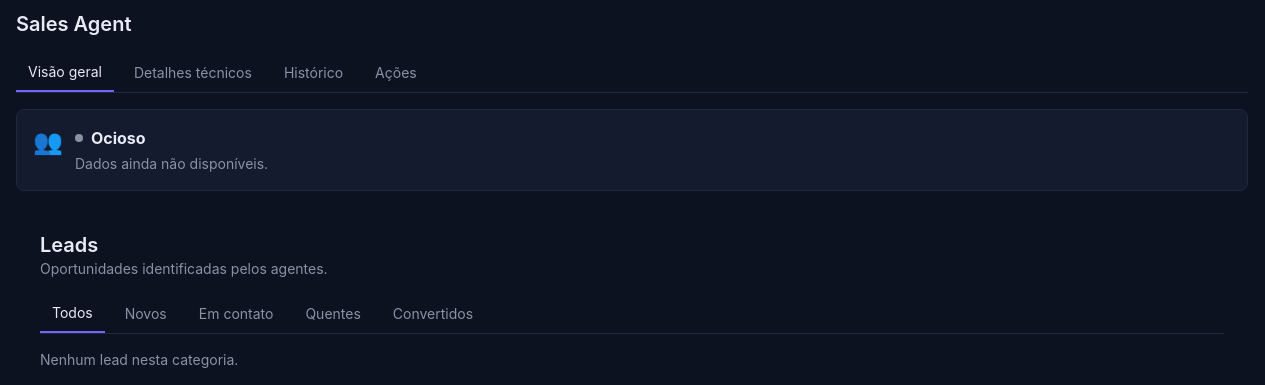
AgenteDetailPage › mostra as 4 abas e troca de conteúdo ao clicar
The width and height of the screenshot is (1265, 385).
Expected: the tab "Visão geral" is shown, [16,54,114,92]
Expected: the tab "Detalhes técnicos" is shown, [122,54,264,92]
Click the tab "Histórico": [314, 73] box [272,54,355,92]
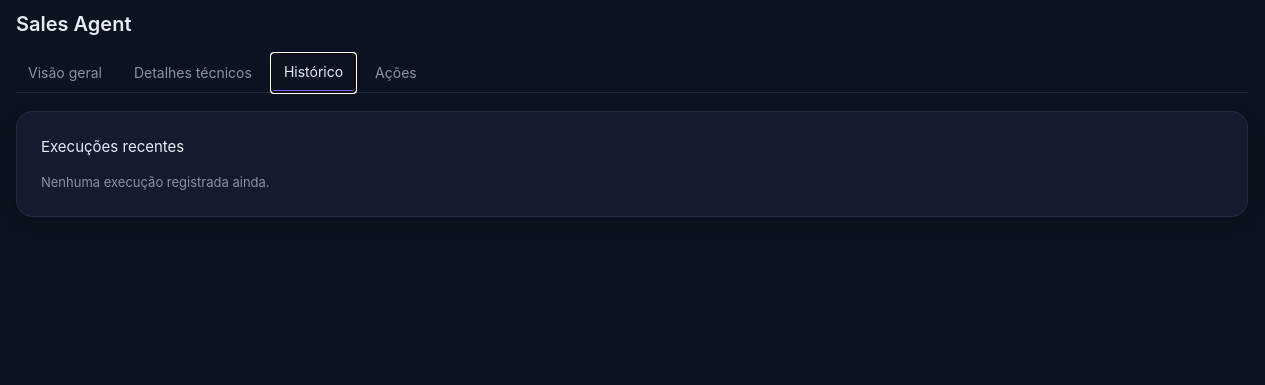
Expected: the heading "Execuções recentes" is shown, [41,136,184,158]
Click the tab "Ações": [396, 73] box [363,54,429,92]
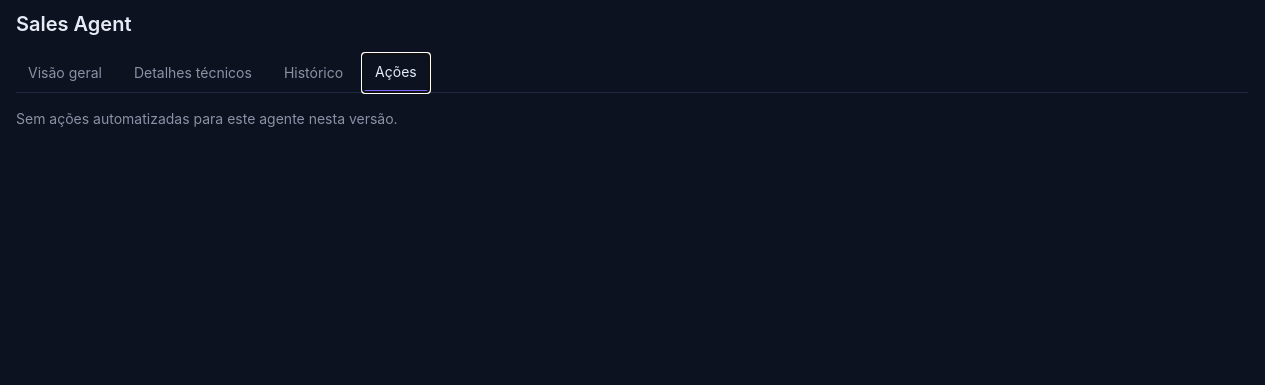
Expected: the text "Sem ações automatizadas para este agente nesta versão." is shown, [16,110,398,127]
